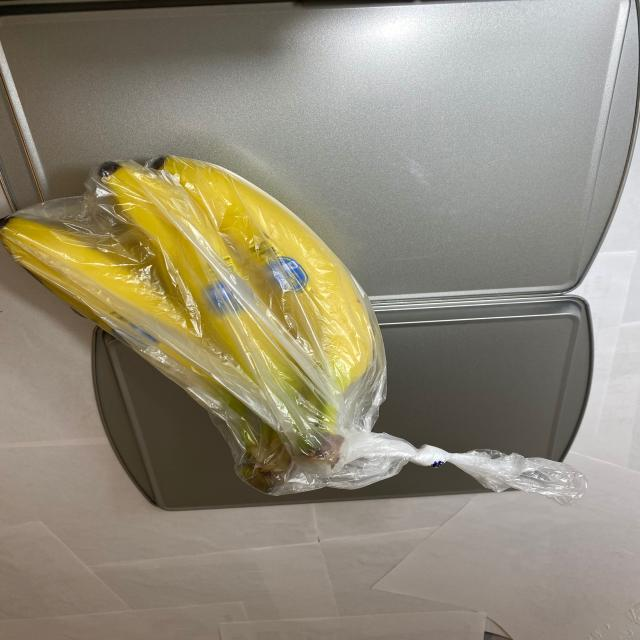banana: (2, 132, 397, 501)
